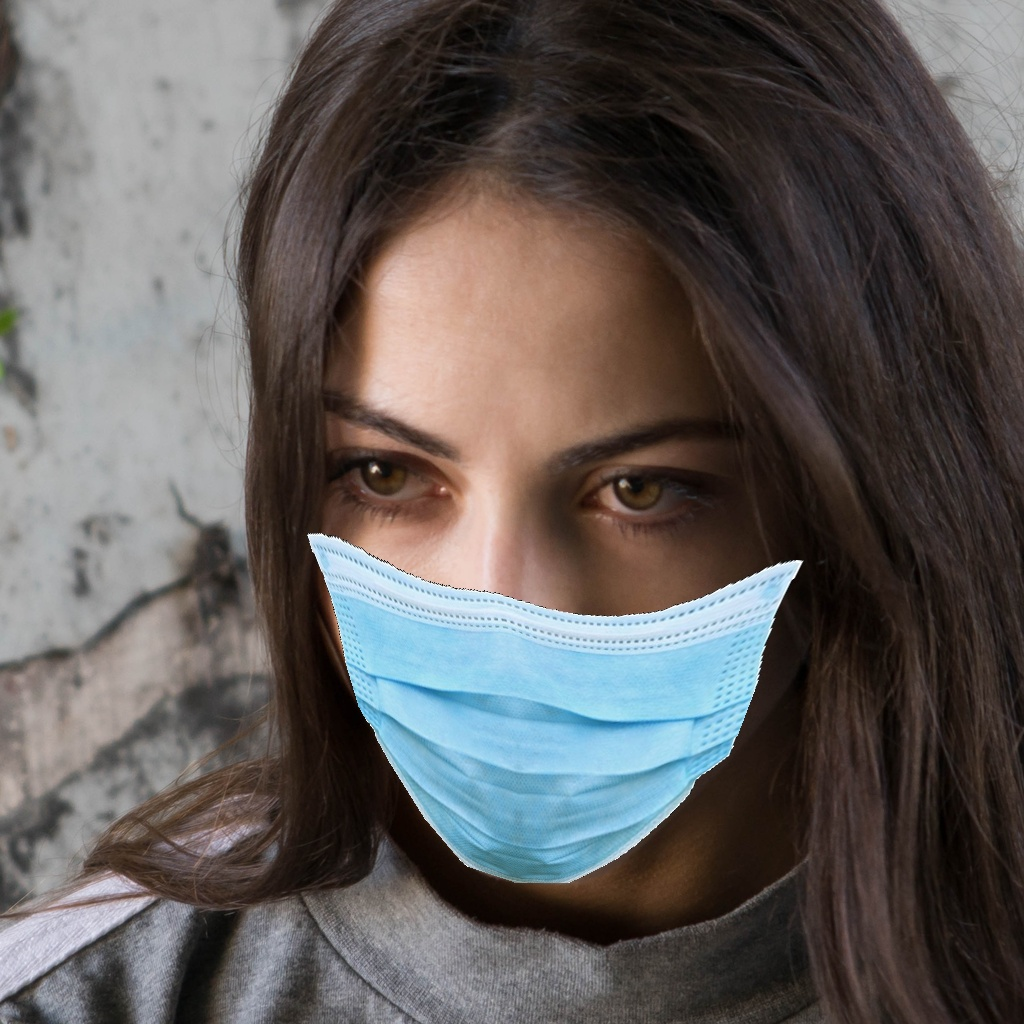Mask: (305, 343, 811, 883)
